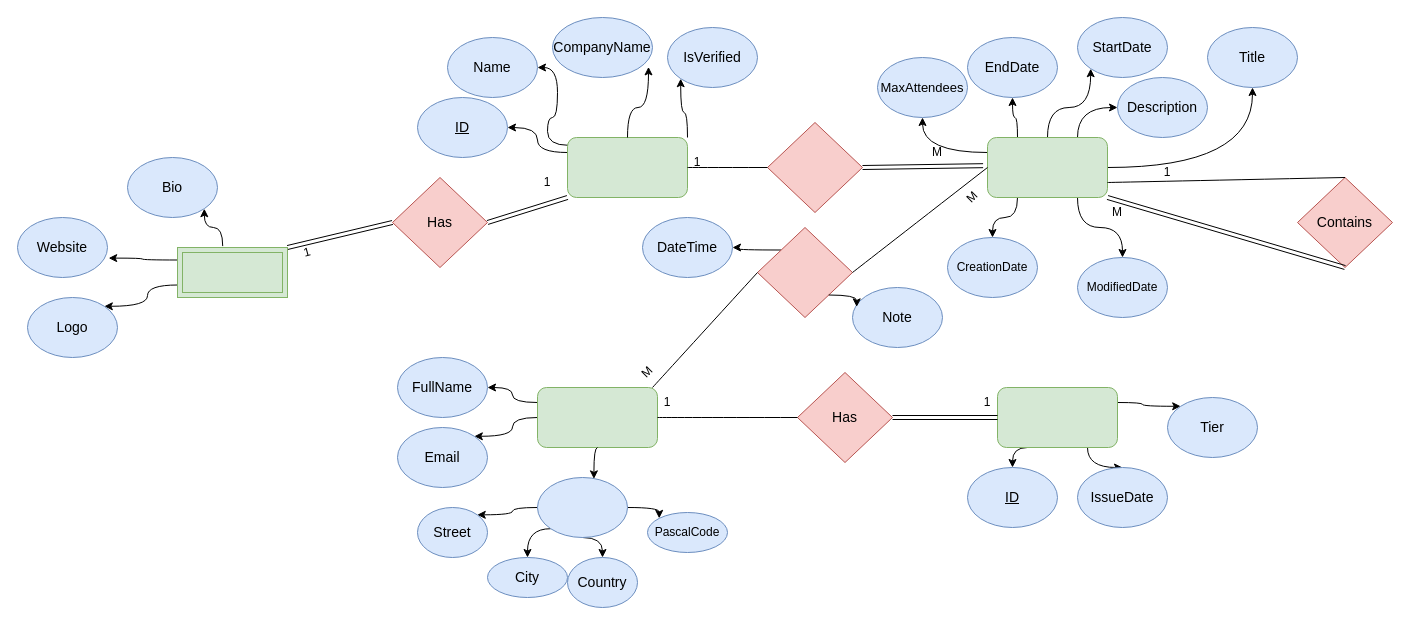
Some shapes in this 1410 by 625 pixel diagram are drawn without their labels. Here are the shapes that lost their labels. From the top down, the centre of each, then its label:
At point (627, 167): "Organizer".
At point (814, 167): "Organize".
At point (1047, 167): "Event".
At point (232, 272): "OrganizerProfile".
At point (804, 272): "Register".
At point (597, 417): "Attendee".
At point (1057, 417): "Badge".
At point (582, 507): "Address".
